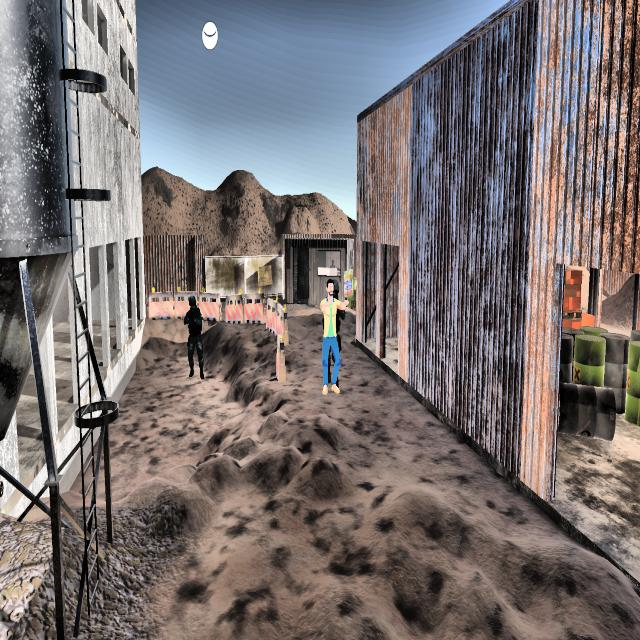bad: (180, 284, 210, 384)
good: (317, 272, 347, 409)
